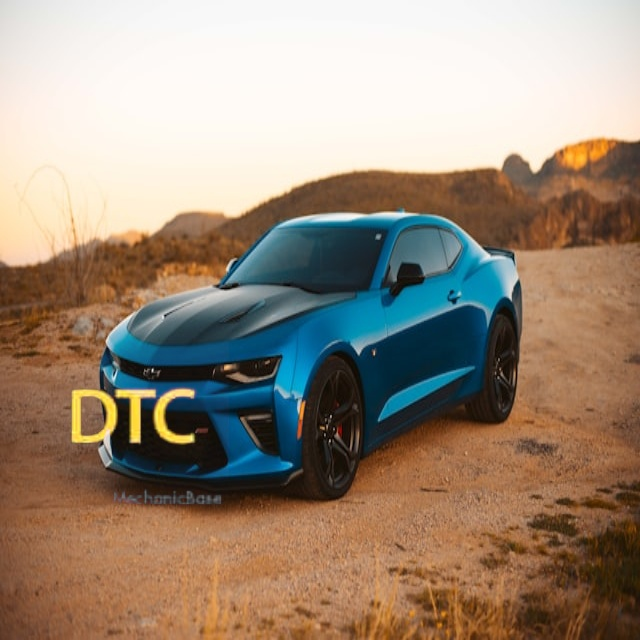symbol: (37, 322, 229, 514)
